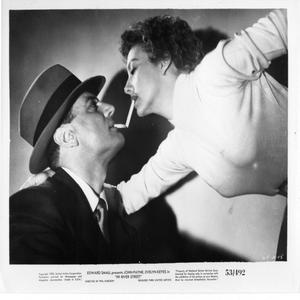cigarette: (126, 94, 136, 130), (111, 123, 133, 133)
